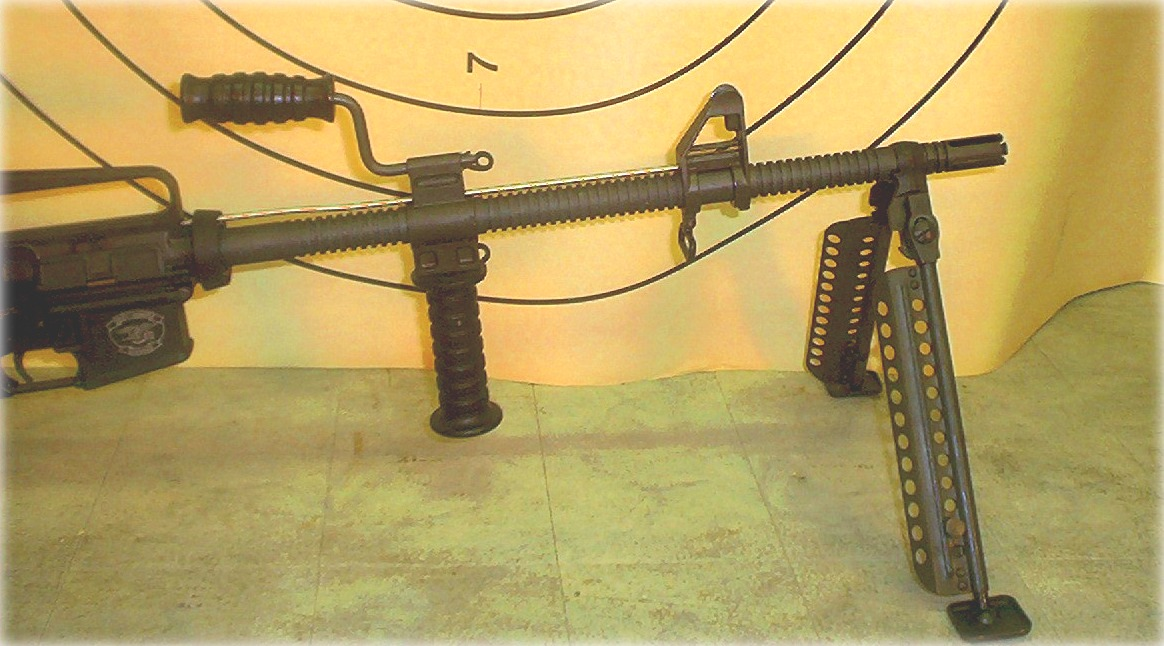rifle: (25, 45, 1053, 635)
